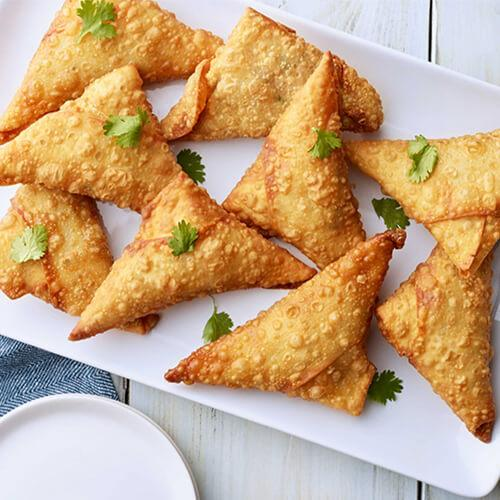samosa: (165, 230, 404, 415), (70, 172, 315, 340), (0, 0, 223, 143), (0, 64, 181, 209), (377, 245, 495, 440), (344, 130, 500, 274), (223, 124, 365, 268), (185, 8, 322, 140), (282, 55, 340, 138)
